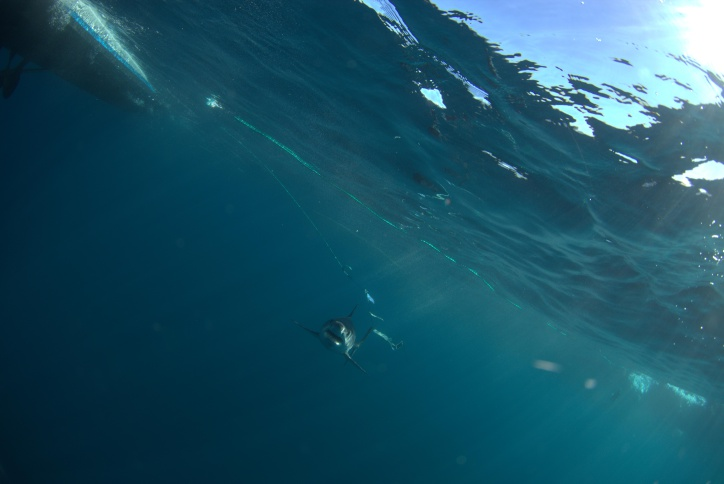Mako: (275, 305, 386, 385)
